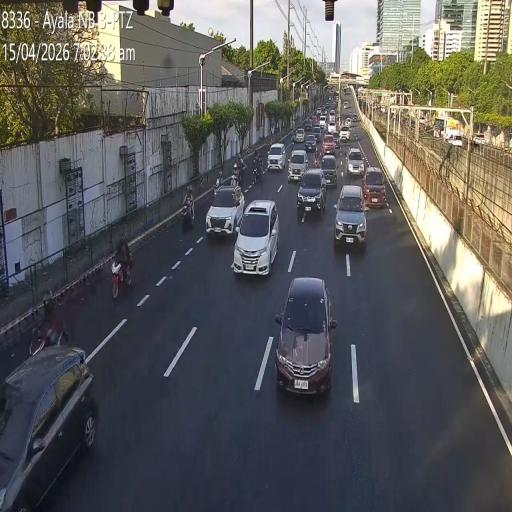Car: (0, 344, 95, 510), (275, 279, 336, 396), (232, 198, 280, 275), (334, 183, 368, 247), (205, 182, 244, 237), (296, 166, 328, 218), (363, 166, 386, 208), (286, 148, 308, 183), (320, 154, 338, 188), (266, 142, 286, 171), (346, 146, 364, 176), (322, 134, 336, 155), (304, 133, 316, 152), (339, 124, 351, 142), (329, 130, 340, 149), (294, 127, 305, 144)
Motor: (32, 289, 68, 355), (111, 254, 132, 299), (250, 147, 263, 187), (180, 189, 194, 226), (231, 162, 243, 189), (213, 168, 222, 195), (313, 146, 320, 170)
Not Accident: (0, 283, 98, 512), (204, 162, 244, 237), (296, 150, 326, 220)
